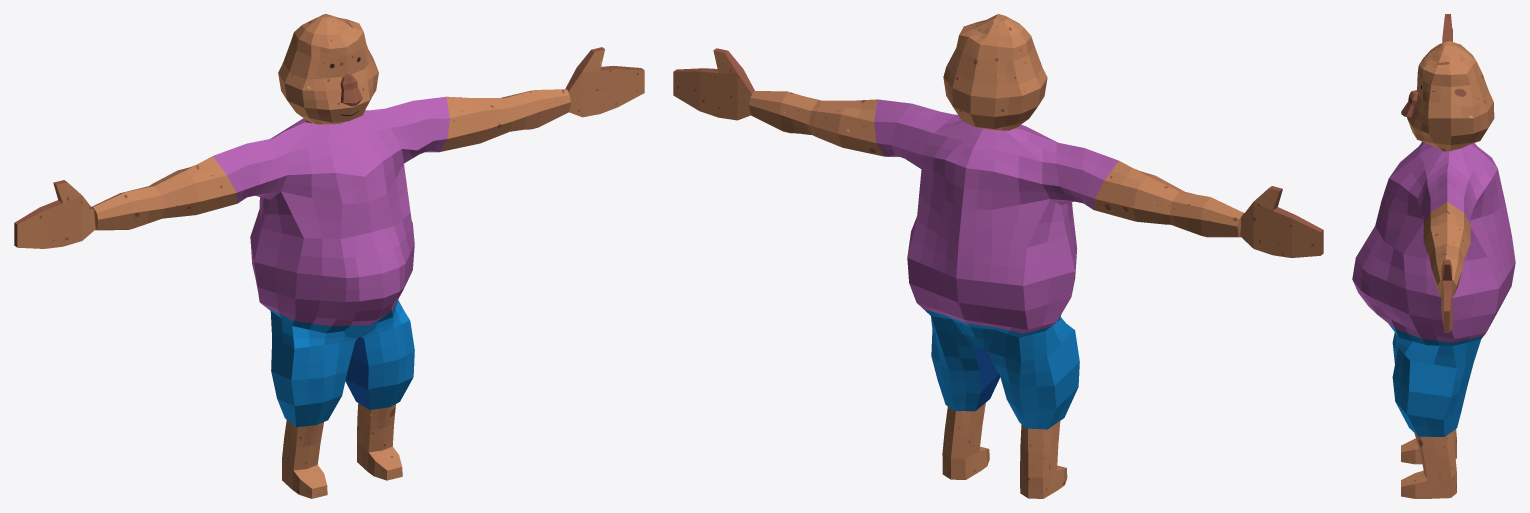
The model's file is client_CUT_onlymesh.fbx.
3 views of the same model, side by side, from view 1: azimuth 30°, elevation 25°; view 2: azimuth 150°, elevation 25°; view 3: azimuth 270°, elevation 25° (orthographic). The views are drawn at different scales.
Parts seen in each view (by area): view 1: client; view 2: client; view 3: client.
Boxes of the visible parts, x1,y1,x2,y2 form: client: (14, 14, 644, 498); client: (673, 14, 1323, 498); client: (1352, 14, 1515, 498).
Bounding box in the file's own units: 2.92 × 0.6995 × 2.03.
